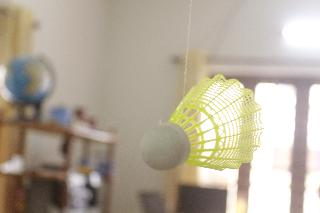shuttlecock: (140, 74, 264, 169)
